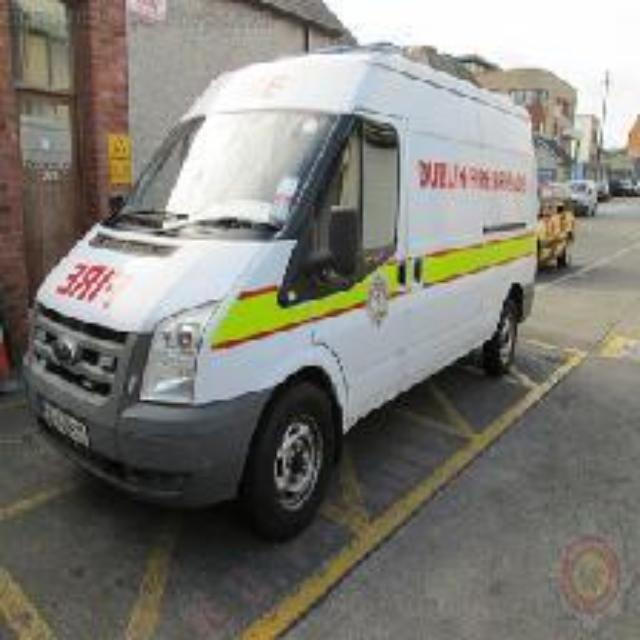emergency: (40, 60, 548, 518)
